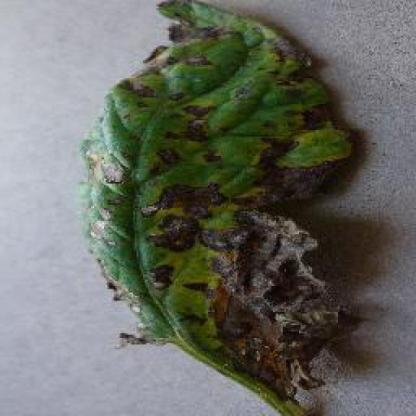Tomato_Blight: (83, 2, 353, 390)
